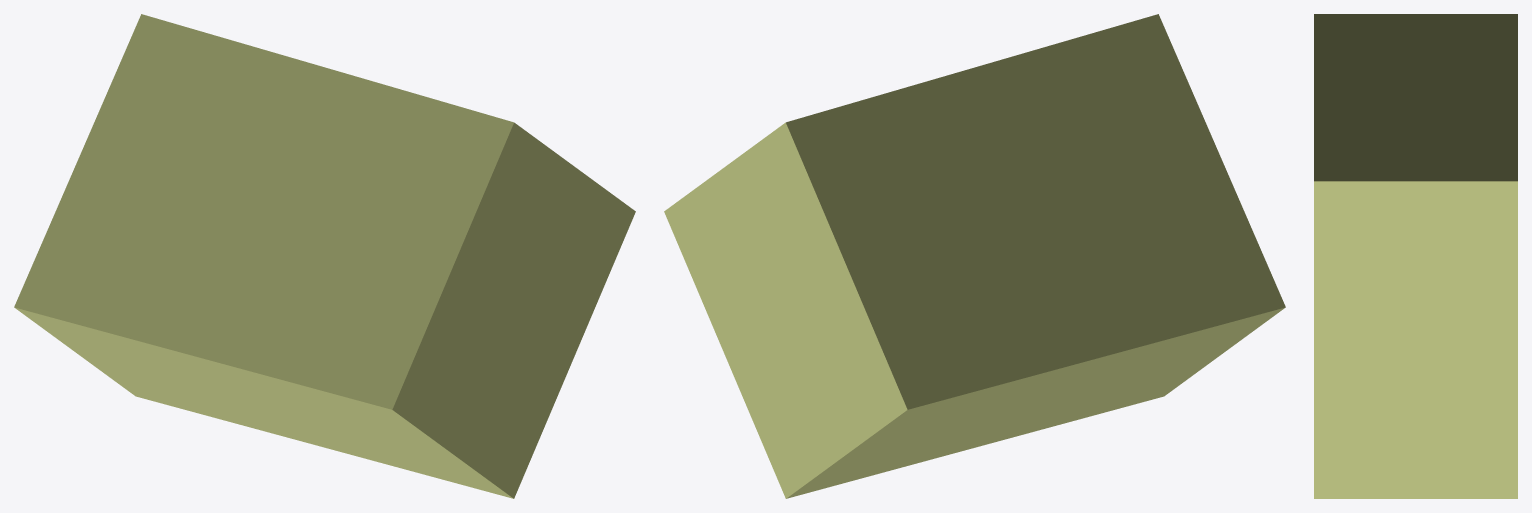
The picture shows the model from 3 angles, left to right: view 1: azimuth 30°, elevation 25°; view 2: azimuth 150°, elevation 25°; view 3: azimuth 270°, elevation 25°; orthographic projection. The views are drawn at different scales.
Parts seen in each view (by area): view 1: 0_1_0_0_0_1_0_2_1_3; view 2: 0_1_0_0_0_1_0_2_1_3; view 3: 0_1_0_0_0_1_0_2_1_3.
Part boxes in pixels (<box>): 0_1_0_0_0_1_0_2_1_3: <box>14,14,635,498</box>; 0_1_0_0_0_1_0_2_1_3: <box>664,14,1285,498</box>; 0_1_0_0_0_1_0_2_1_3: <box>1314,14,1517,498</box>.
Bounding box in the file's own units: 14.23 × 12.43 × 6.
